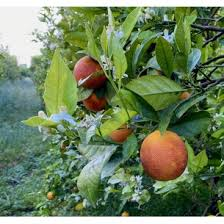orange: (139, 132, 188, 181)
